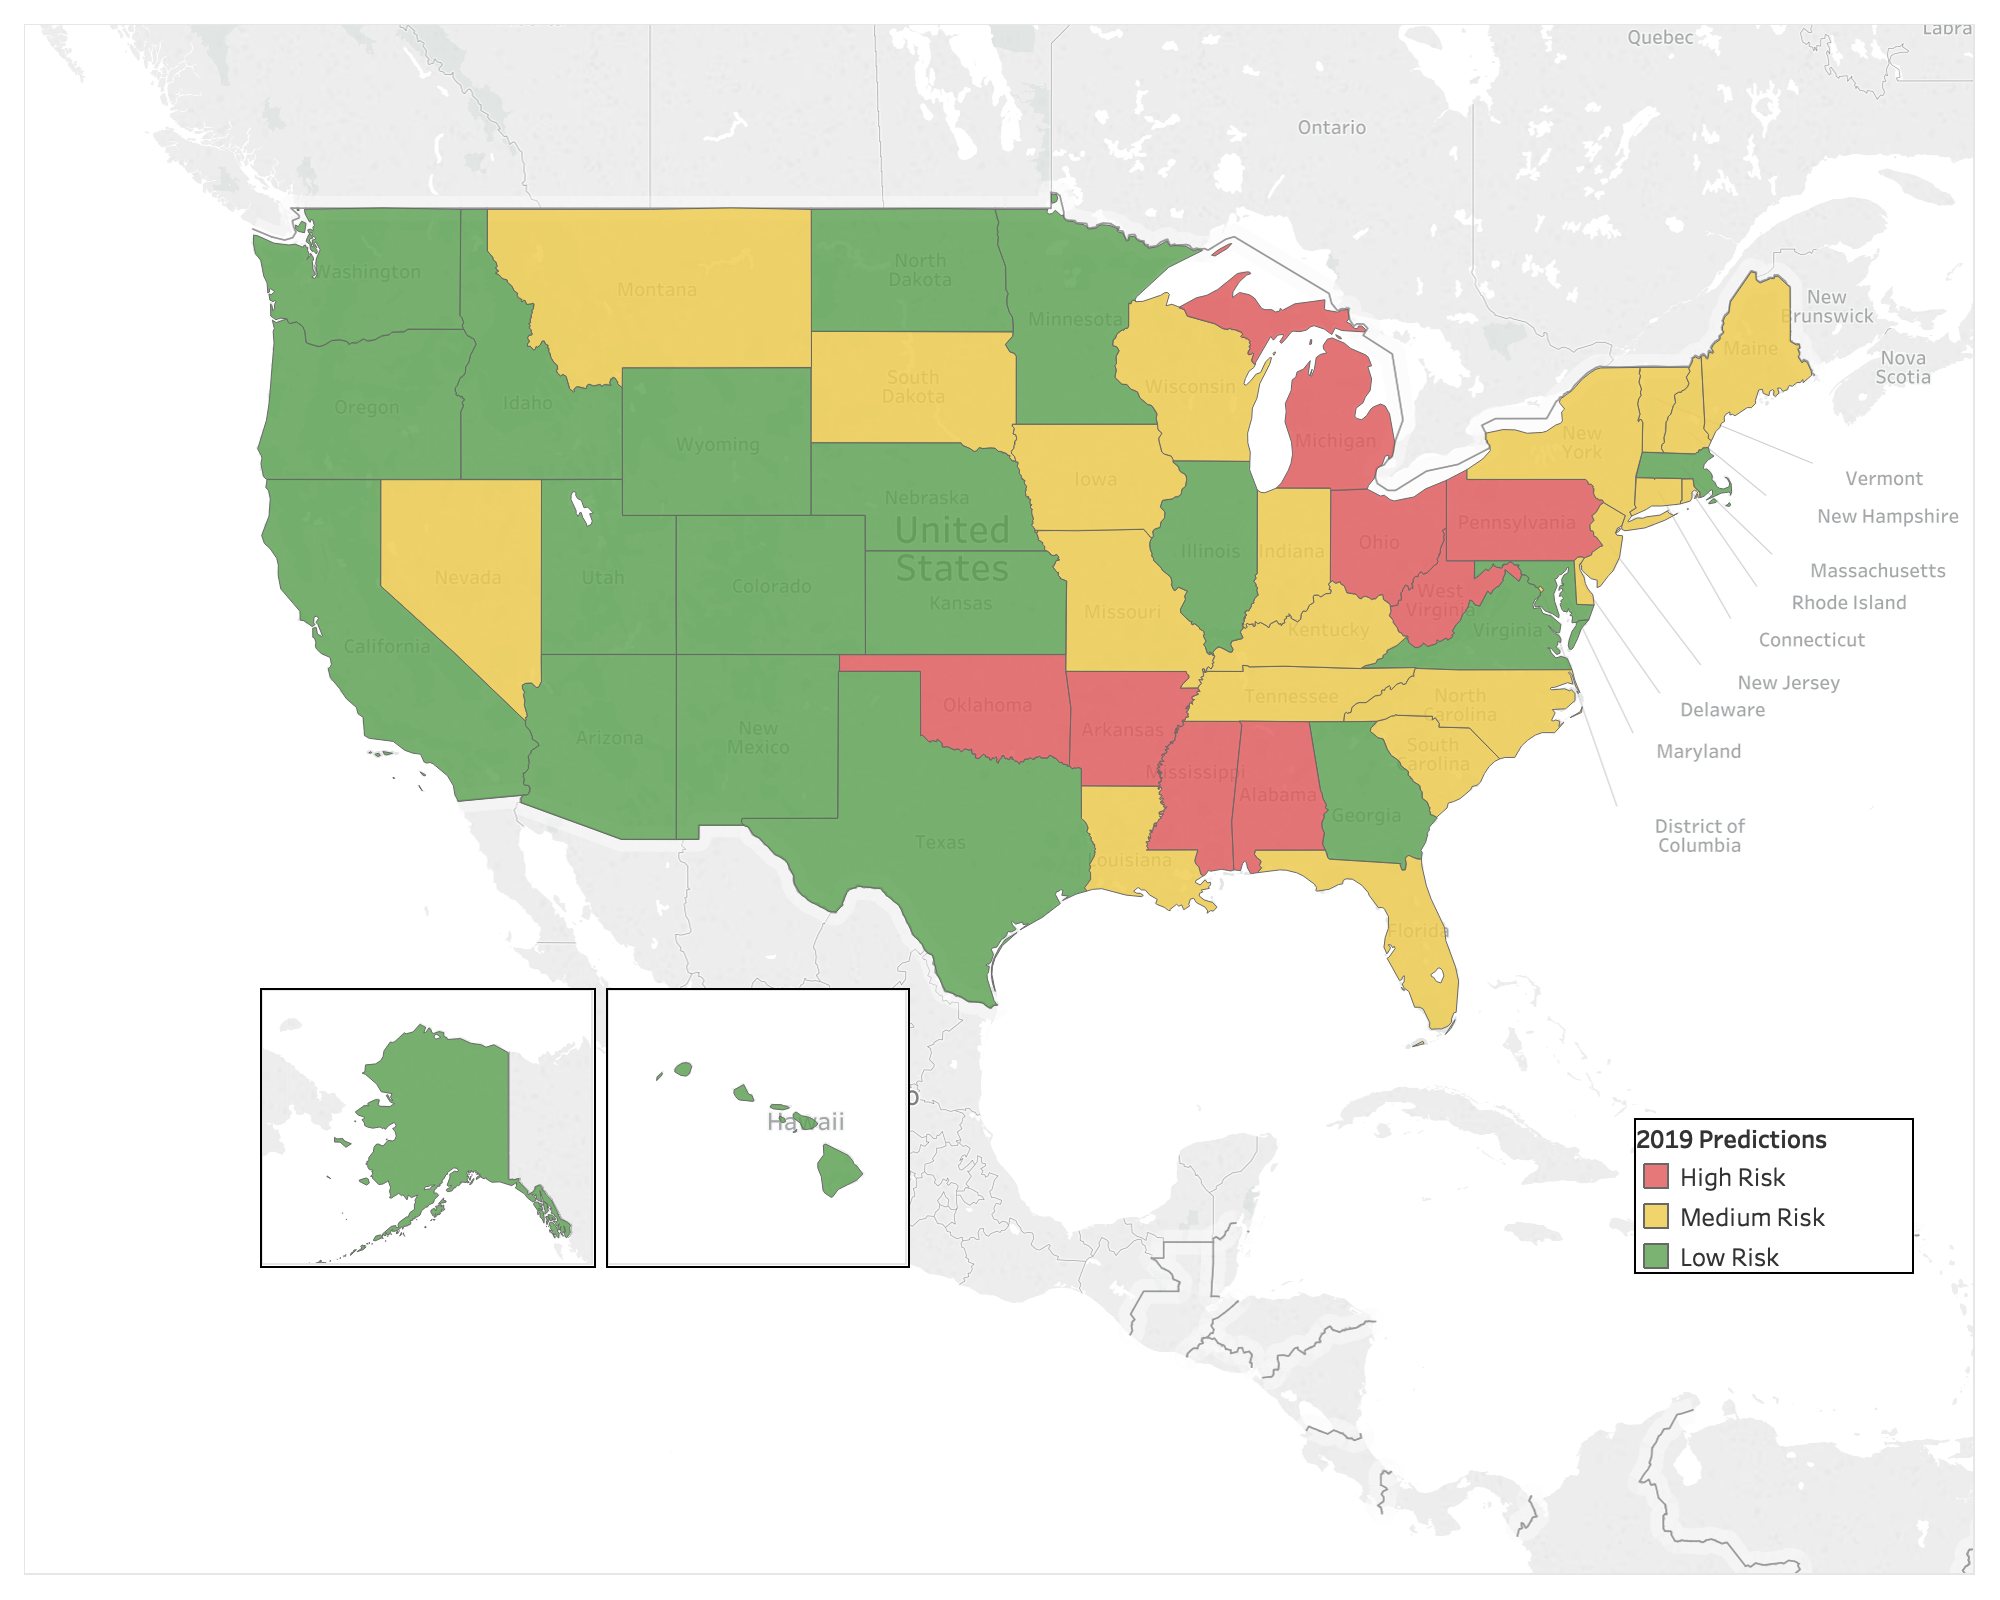

The dashboard page shown, as its layout file describes it:
{"tool":"tableau","page":{"name":"Combined Dashboard","canvas":[1000,800],"ordinal":0},"visuals":[{"type":"worksheet","title":"Continental US","mark":"Multipolygon","box":[8,8,984,784]},{"type":"worksheet","title":"Alaska","mark":"Multipolygon","box":[130,494,168,140]},{"type":"worksheet","title":"Hawaii","mark":"Multipolygon","box":[303,494,152,140]},{"type":"legend","title":"Continental US","param":"[federated.0m2l6ym0lxfjpv17yf2tp1avjzvb].[none:Calculation_3261732089231159298:n","box":[817,559,140,78]}]}

Visuals, with their boxes in screenshot pixels (x1, y1, x2, y2), scaled from the page's 1000x800 canvas onto the 2000x1600 screenshot:
"Continental US" worksheet (Multipolygon marks): rect(16, 16, 1984, 1584)
"Alaska" worksheet (Multipolygon marks): rect(260, 988, 596, 1268)
"Hawaii" worksheet (Multipolygon marks): rect(606, 988, 910, 1268)
"Continental US" legend: rect(1634, 1118, 1914, 1274)
